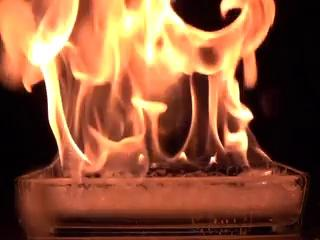Fire: (18, 1, 288, 183)
